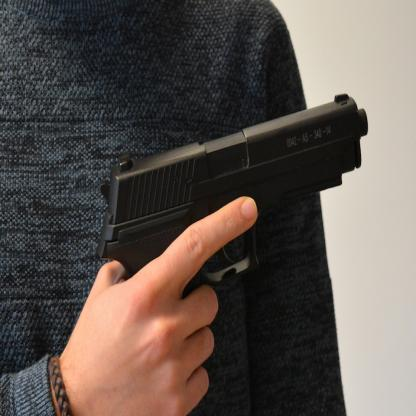gun: (95, 90, 369, 296)
